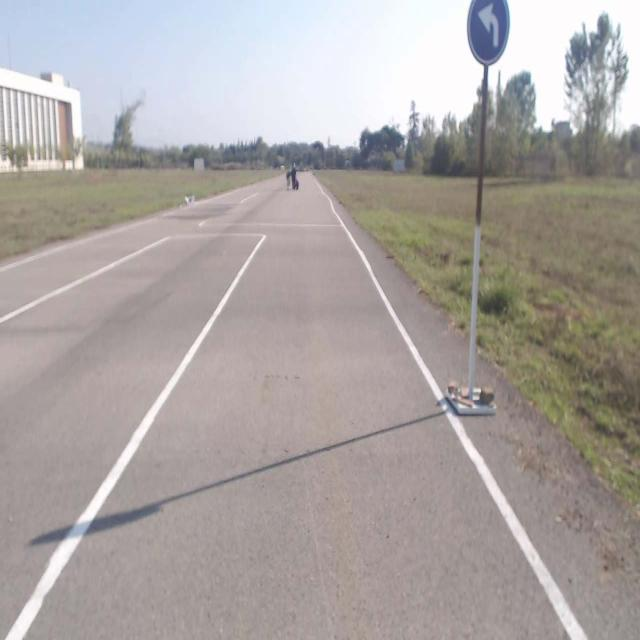sol: (466, 1, 510, 64)
